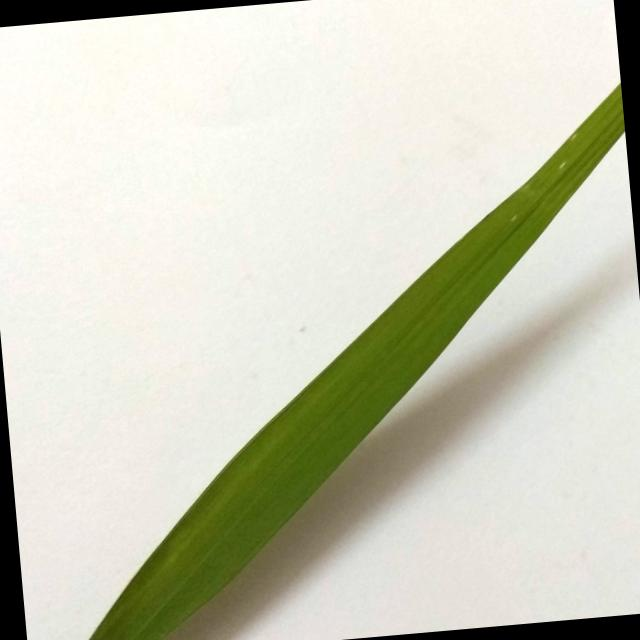Rice_Healthy: (87, 83, 624, 640)
